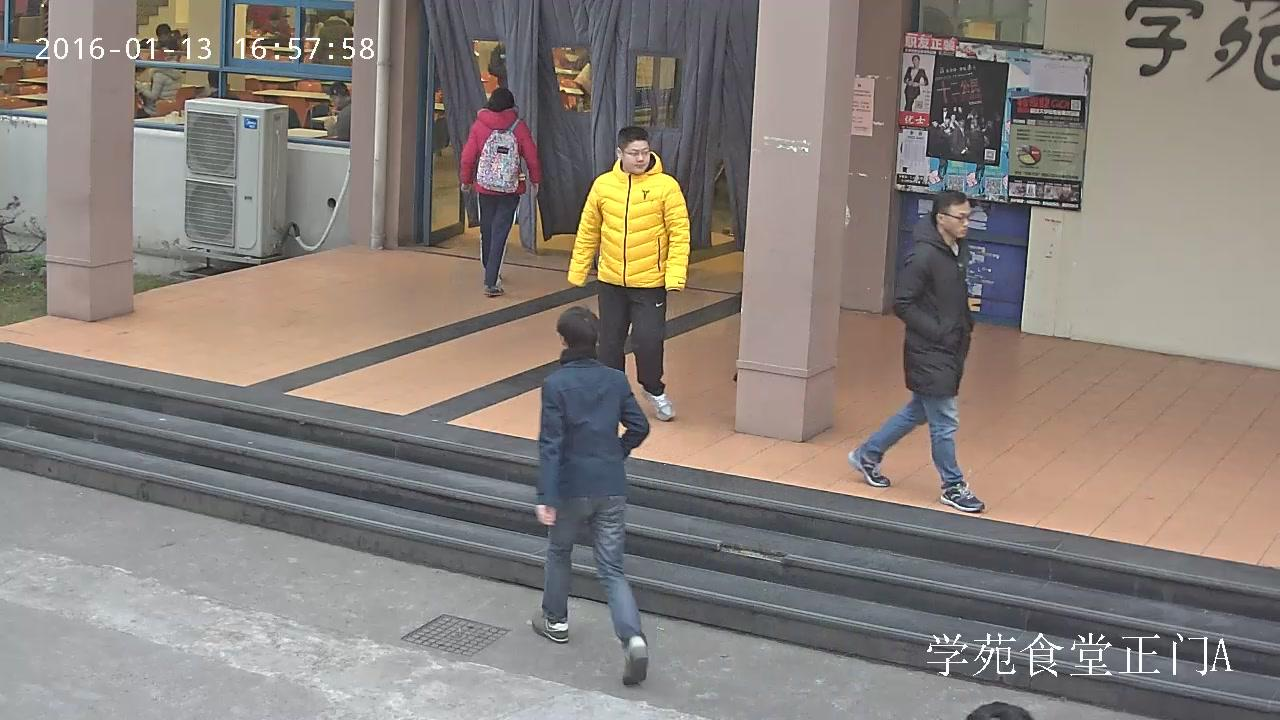person: (531, 304, 653, 685), (846, 189, 986, 513), (565, 125, 692, 421), (459, 87, 542, 297), (135, 52, 186, 119), (313, 6, 354, 68), (324, 81, 352, 142), (903, 55, 929, 112)
